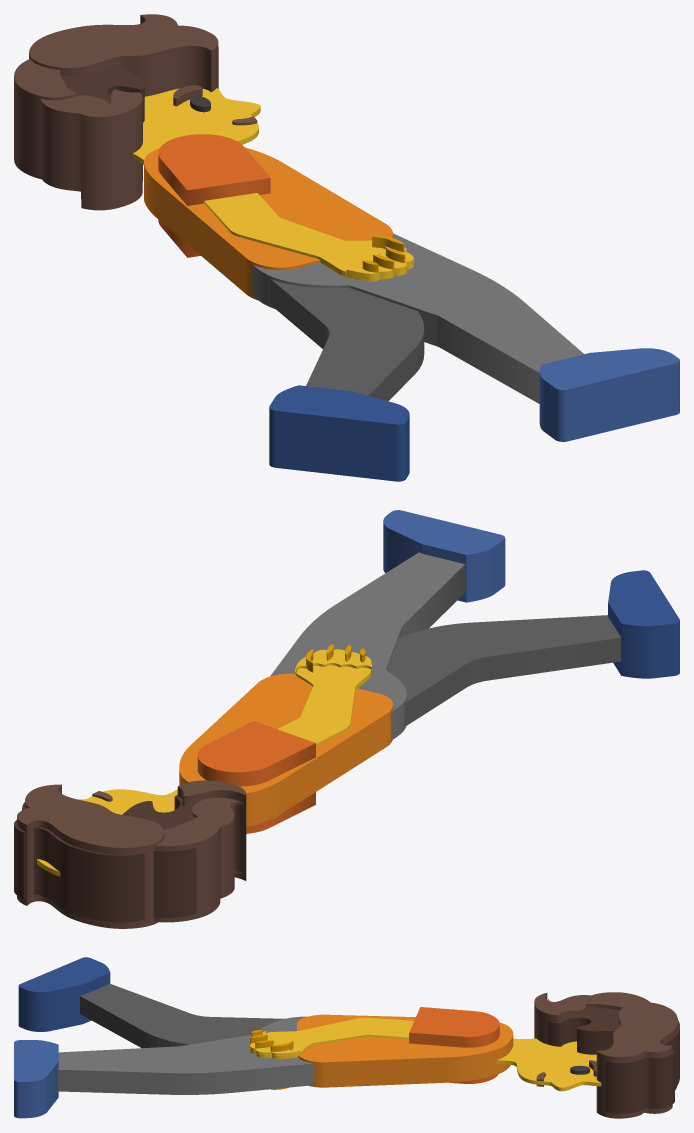
Rendered from emoji_u1f6b6_200d_27a1.glb.
3 views of the same model, one above another, from view 1: azimuth 30°, elevation 25°; view 2: azimuth 150°, elevation 25°; view 3: azimuth 270°, elevation 25° (orthographic). The views are drawn at different scales.
Parts seen in each view (by area): view 1: emoji_u1f6b6_200d_27a1; view 2: emoji_u1f6b6_200d_27a1; view 3: emoji_u1f6b6_200d_27a1.
Part boxes in pixels (x1,y1,x2,y2): emoji_u1f6b6_200d_27a1: [14, 14, 679, 481]; emoji_u1f6b6_200d_27a1: [14, 510, 679, 928]; emoji_u1f6b6_200d_27a1: [14, 957, 679, 1118].
Size of the model in its own units: 0.0145 by 0.0036 by 0.0333.
